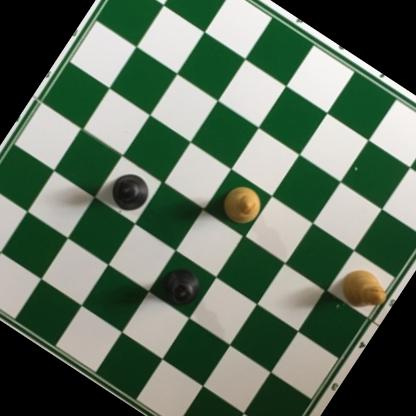black-bishop: (102, 165, 157, 221), (152, 259, 207, 313)
white-bishop: (332, 260, 395, 321), (215, 178, 269, 232)
